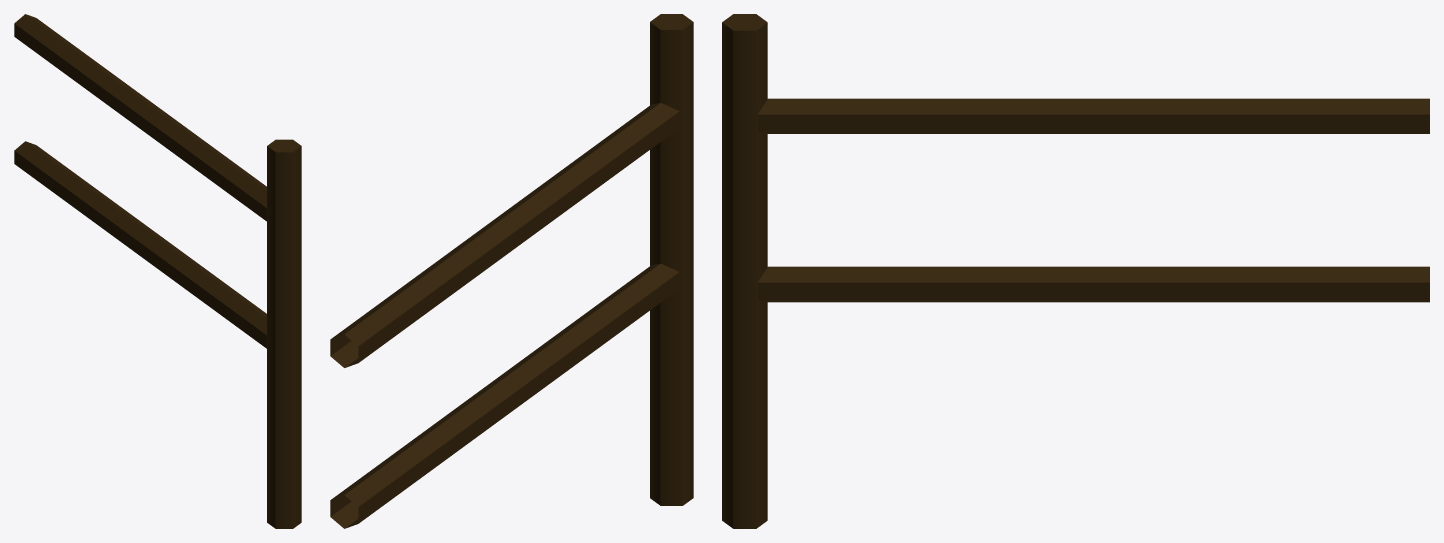
File: FenceExtend.fbx
3 views of the same model, side by side, from view 1: azimuth 30°, elevation 25°; view 2: azimuth 150°, elevation 25°; view 3: azimuth 270°, elevation 25° (orthographic). The views are drawn at different scales.
Visible parts, largest first — view 1: FenceExtend; view 2: FenceExtend; view 3: FenceExtend.
Boxes of the visible parts, left/top/right/bottom form: FenceExtend: left=14, top=14, right=301, bottom=528; FenceExtend: left=330, top=14, right=693, bottom=528; FenceExtend: left=722, top=14, right=1429, bottom=528.
Size of the model in its own units: 0.0843 by 1.17 by 1.51.
